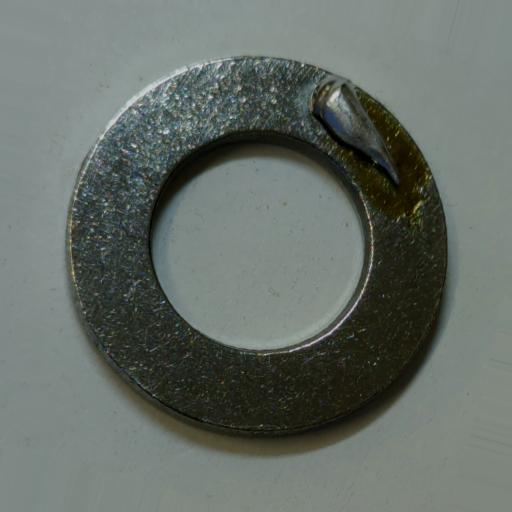excess_material: (311, 76, 401, 188)
